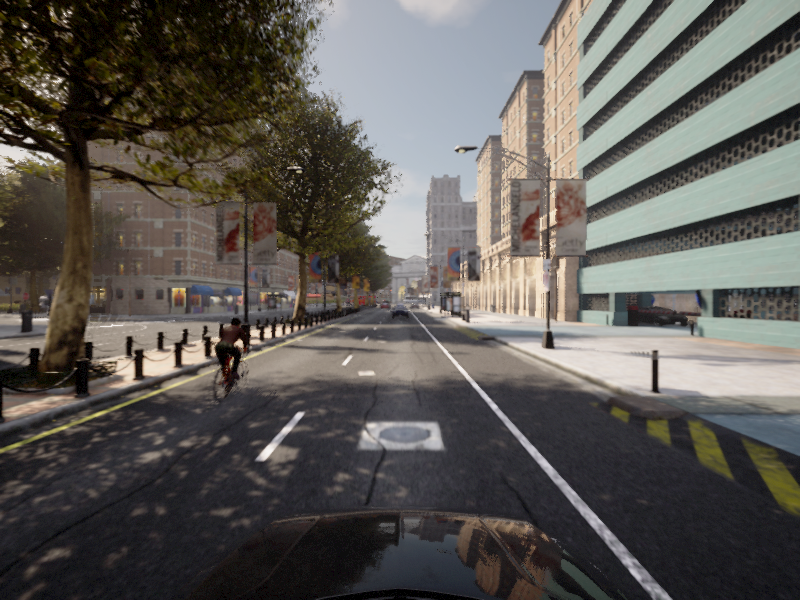vehicle: (198, 316, 260, 406), (391, 305, 409, 318), (299, 302, 309, 316)
